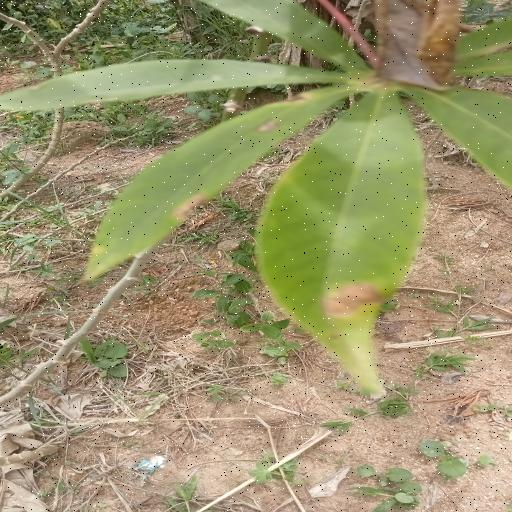Cassava_Brown_Leaf_Spot: (9, 0, 512, 392)
